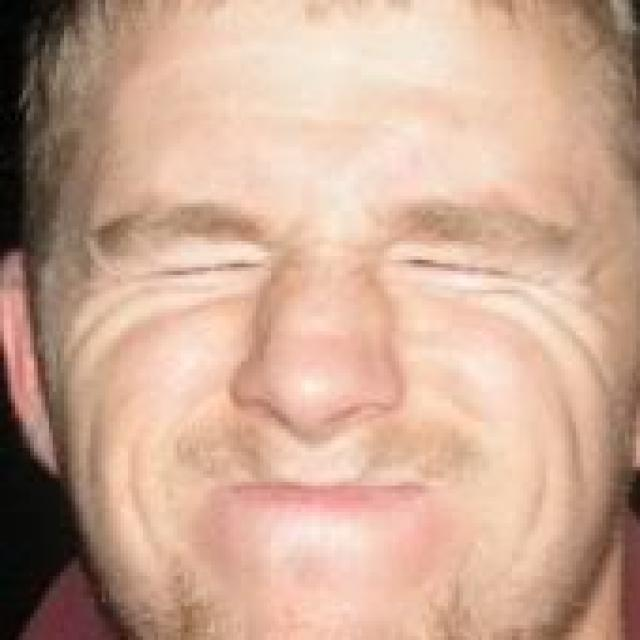Eyeclosed: (399, 240, 524, 302), (144, 243, 270, 289)
